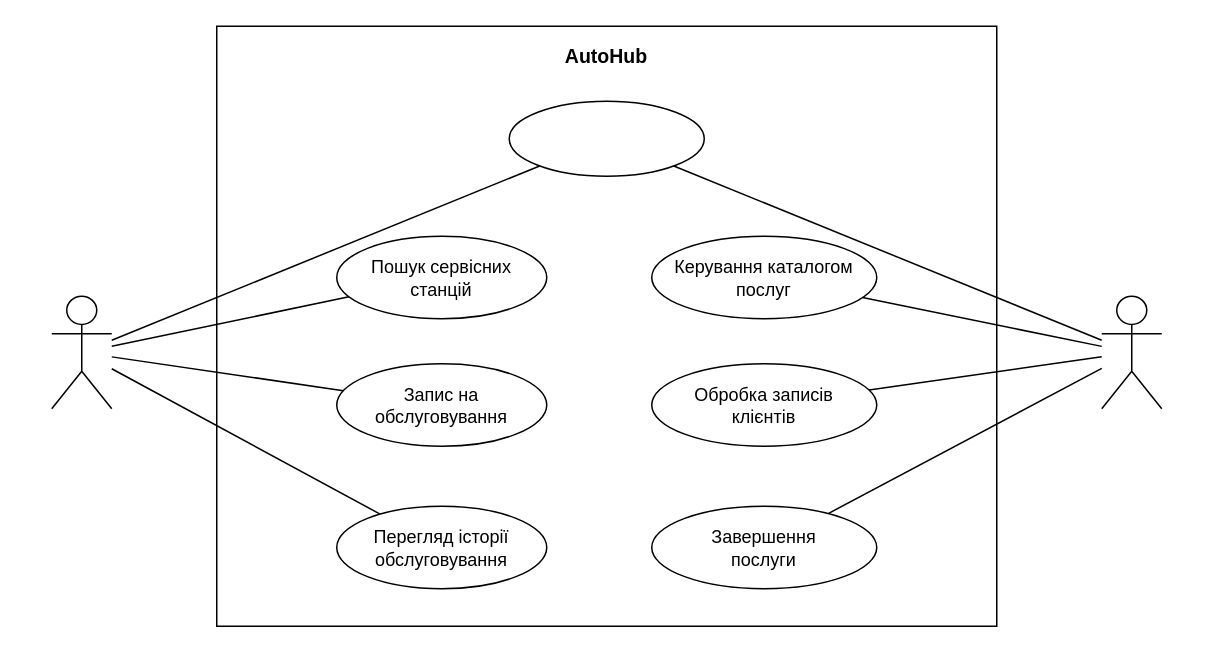
Some shapes in this 1211 by 653 pixel diagram are drawn without their labels. Each missing label, with the centre of its shape:
"Авторизація" goes at (606,138).
"Власник авто" goes at (81,352).
"Представник сервісу" goes at (1131,352).
